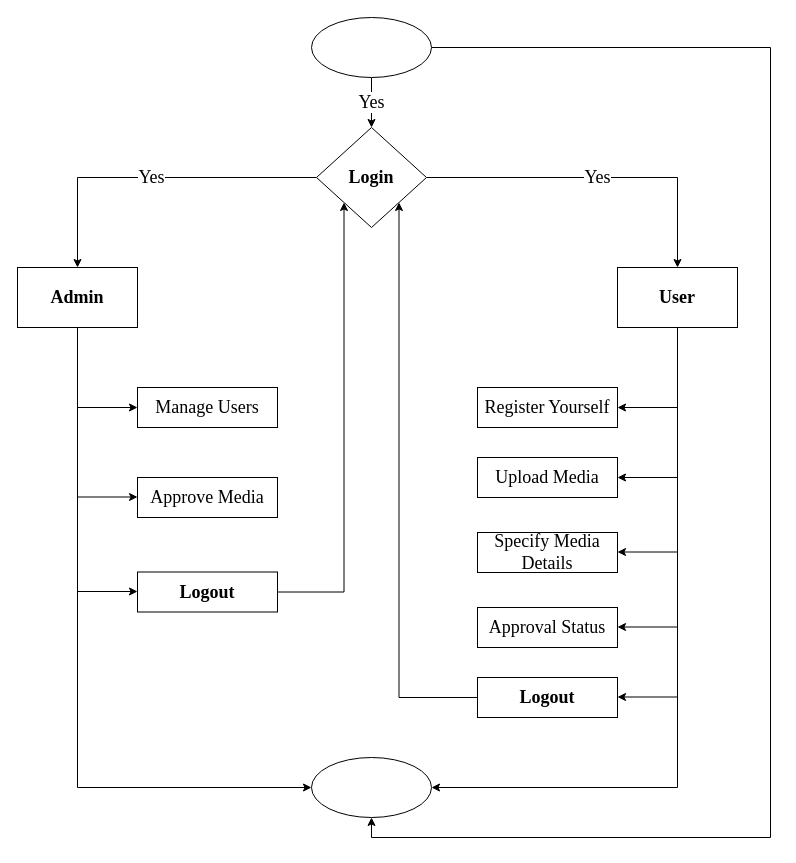
This 796x863 diagram has some shape labels left out. The shapes that lost their labels are listed below. From the top down, each one's centre as x and y in pixels, then its label:
point 371,47: Start
point 371,787: Stop
